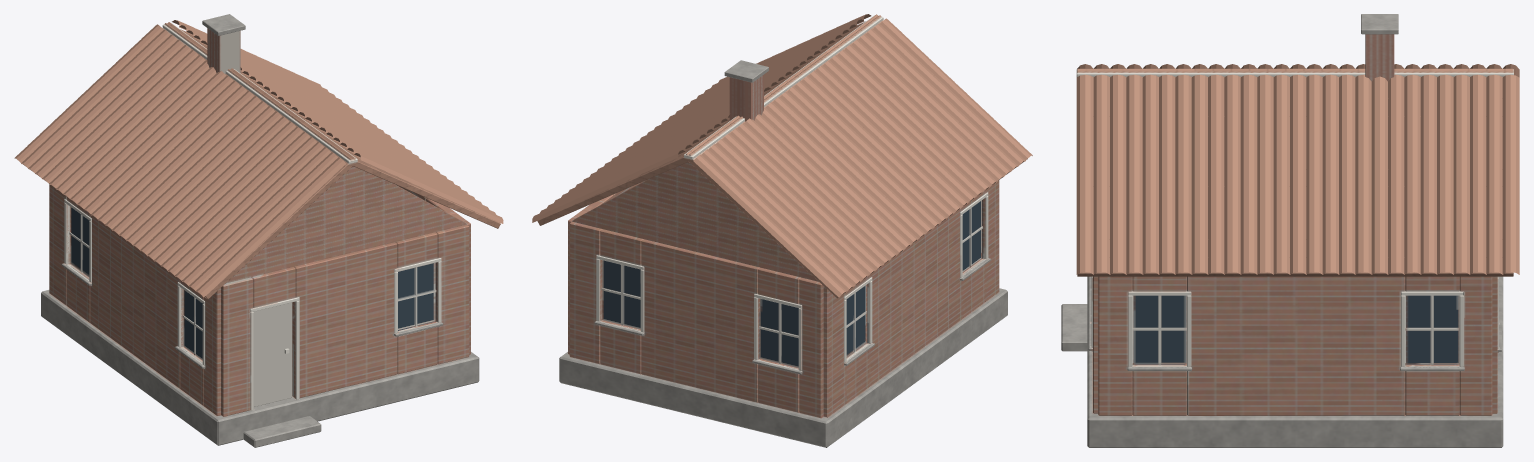
Rendered from house_small.glb.
3 views of the same model, side by side, from view 1: azimuth 30°, elevation 25°; view 2: azimuth 150°, elevation 25°; view 3: azimuth 270°, elevation 25° (orthographic). The views are drawn at different scales.
Parts seen in each view (by area): view 1: house_small; view 2: house_small; view 3: house_small.
Boxes of the visible parts, x1,y1,x2,y2 form: house_small: (23,14,500,447); house_small: (537,14,1027,447); house_small: (1061,14,1513,447).
Bounding box in the file's own units: 6.79 × 6.41 × 7.56.
2 materials, 1 textured.
